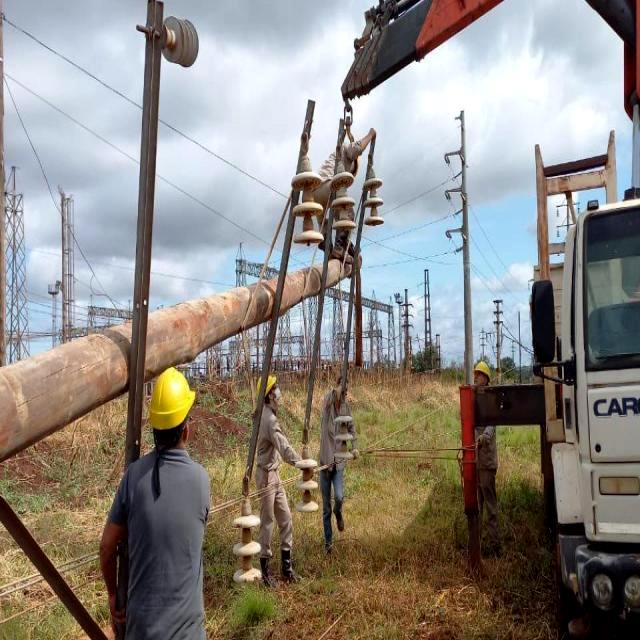Broken Pole: (0, 4, 383, 585)
